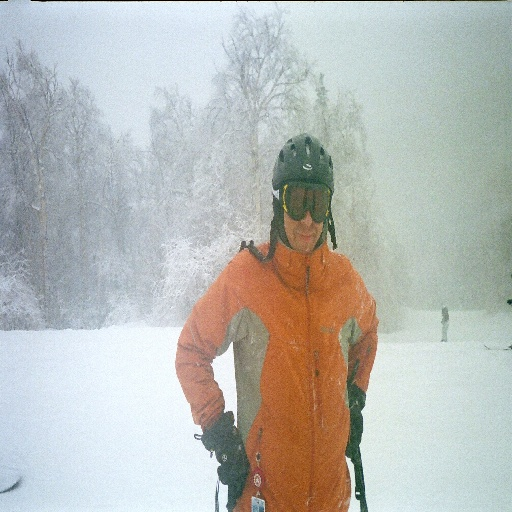hand: (215, 440, 247, 507), (344, 393, 365, 460)
